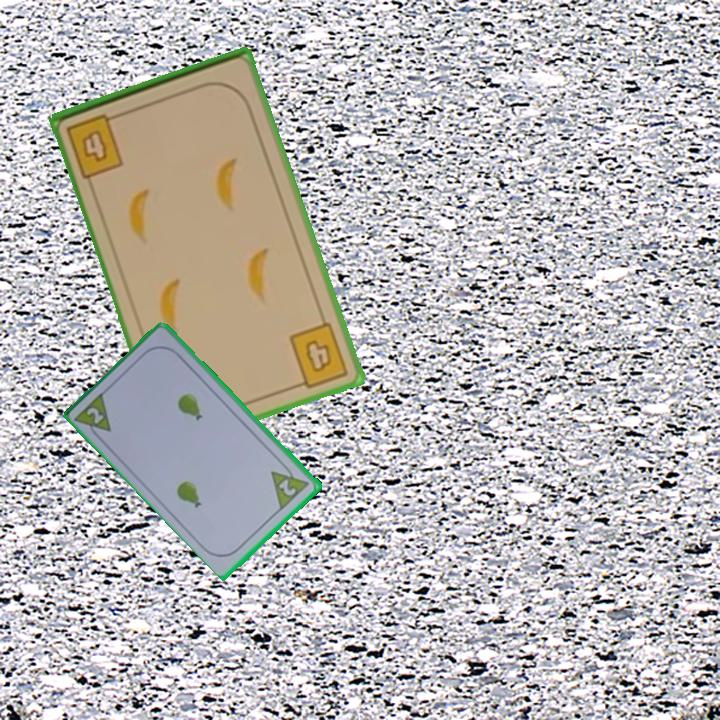2p: (72, 388, 115, 444), (275, 475, 300, 499)
4b: (285, 319, 352, 392), (63, 110, 127, 181)
